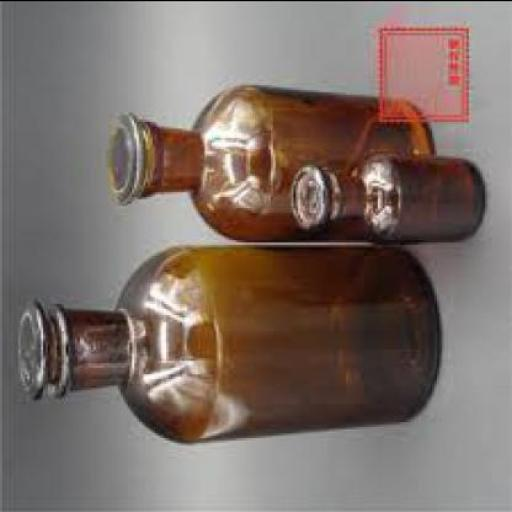glass: (16, 248, 439, 446), (107, 84, 430, 241), (287, 159, 485, 248)
